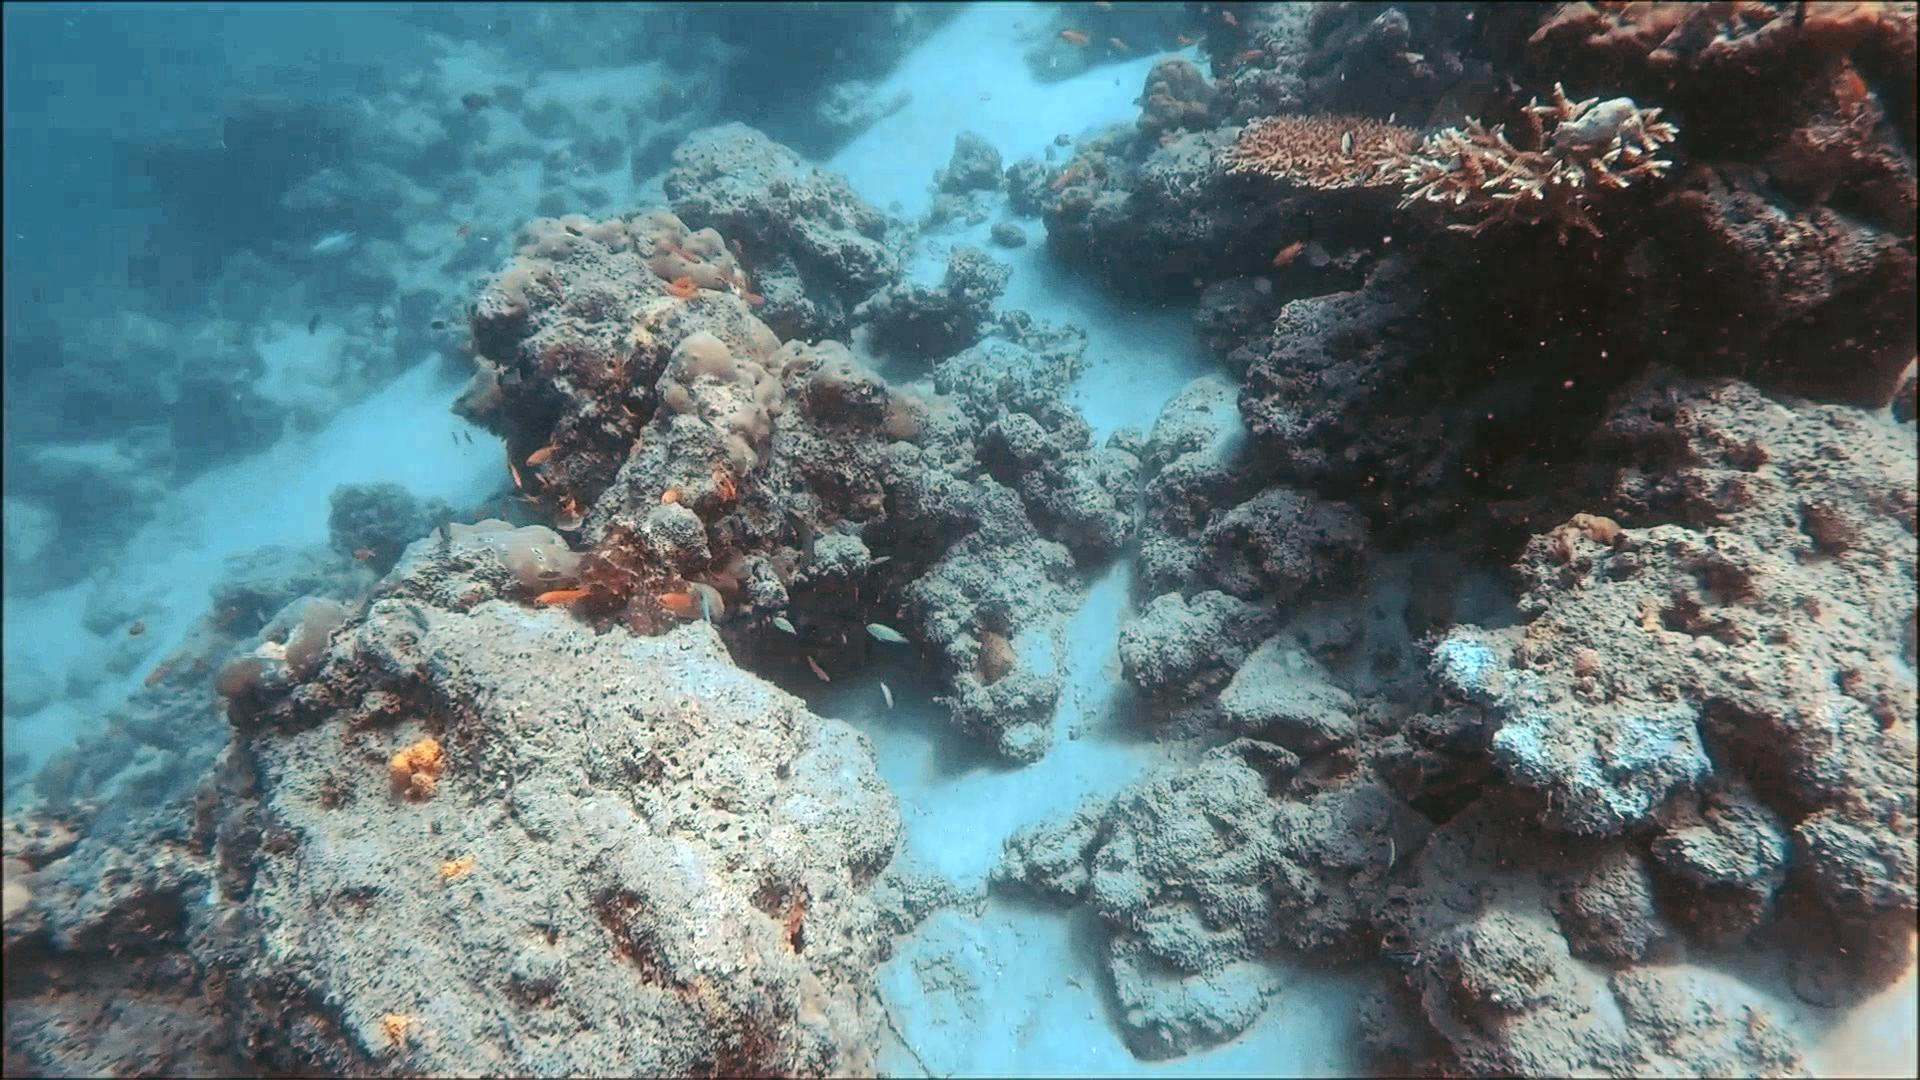Porites-Porites pukoensis: (600, 198, 823, 485)
